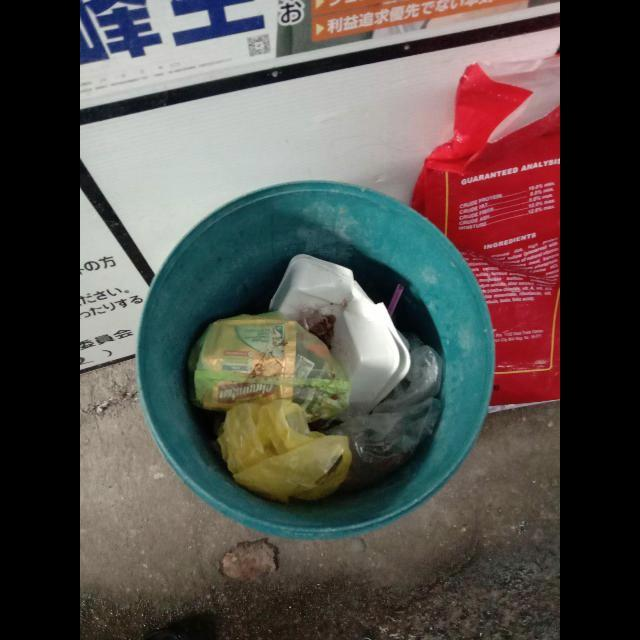plastic_bag: (322, 337, 443, 495), (189, 311, 352, 423), (217, 399, 352, 503)
